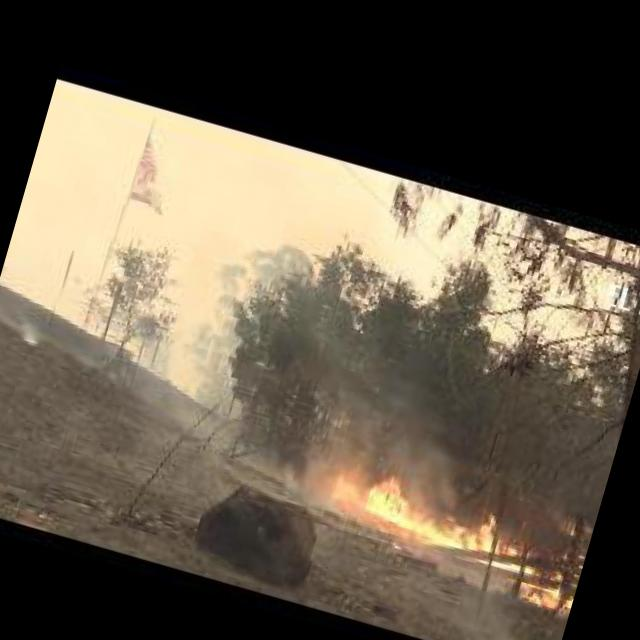fire: (322, 458, 550, 575), (518, 579, 574, 612)
